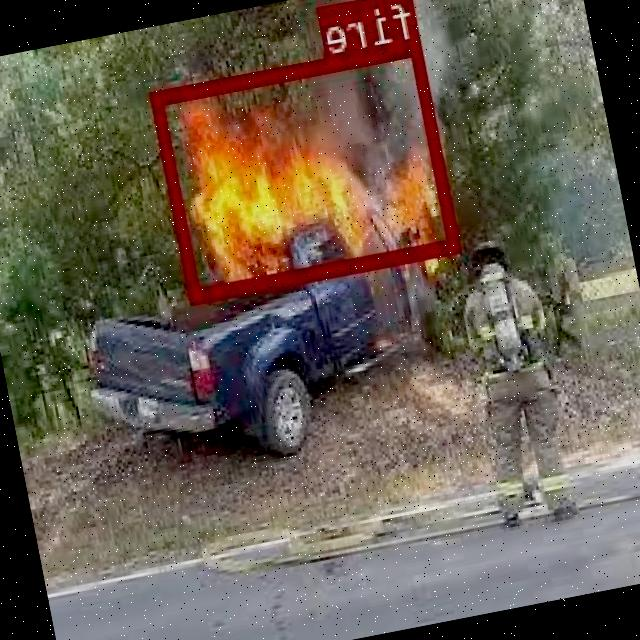fire: (153, 38, 462, 300)
